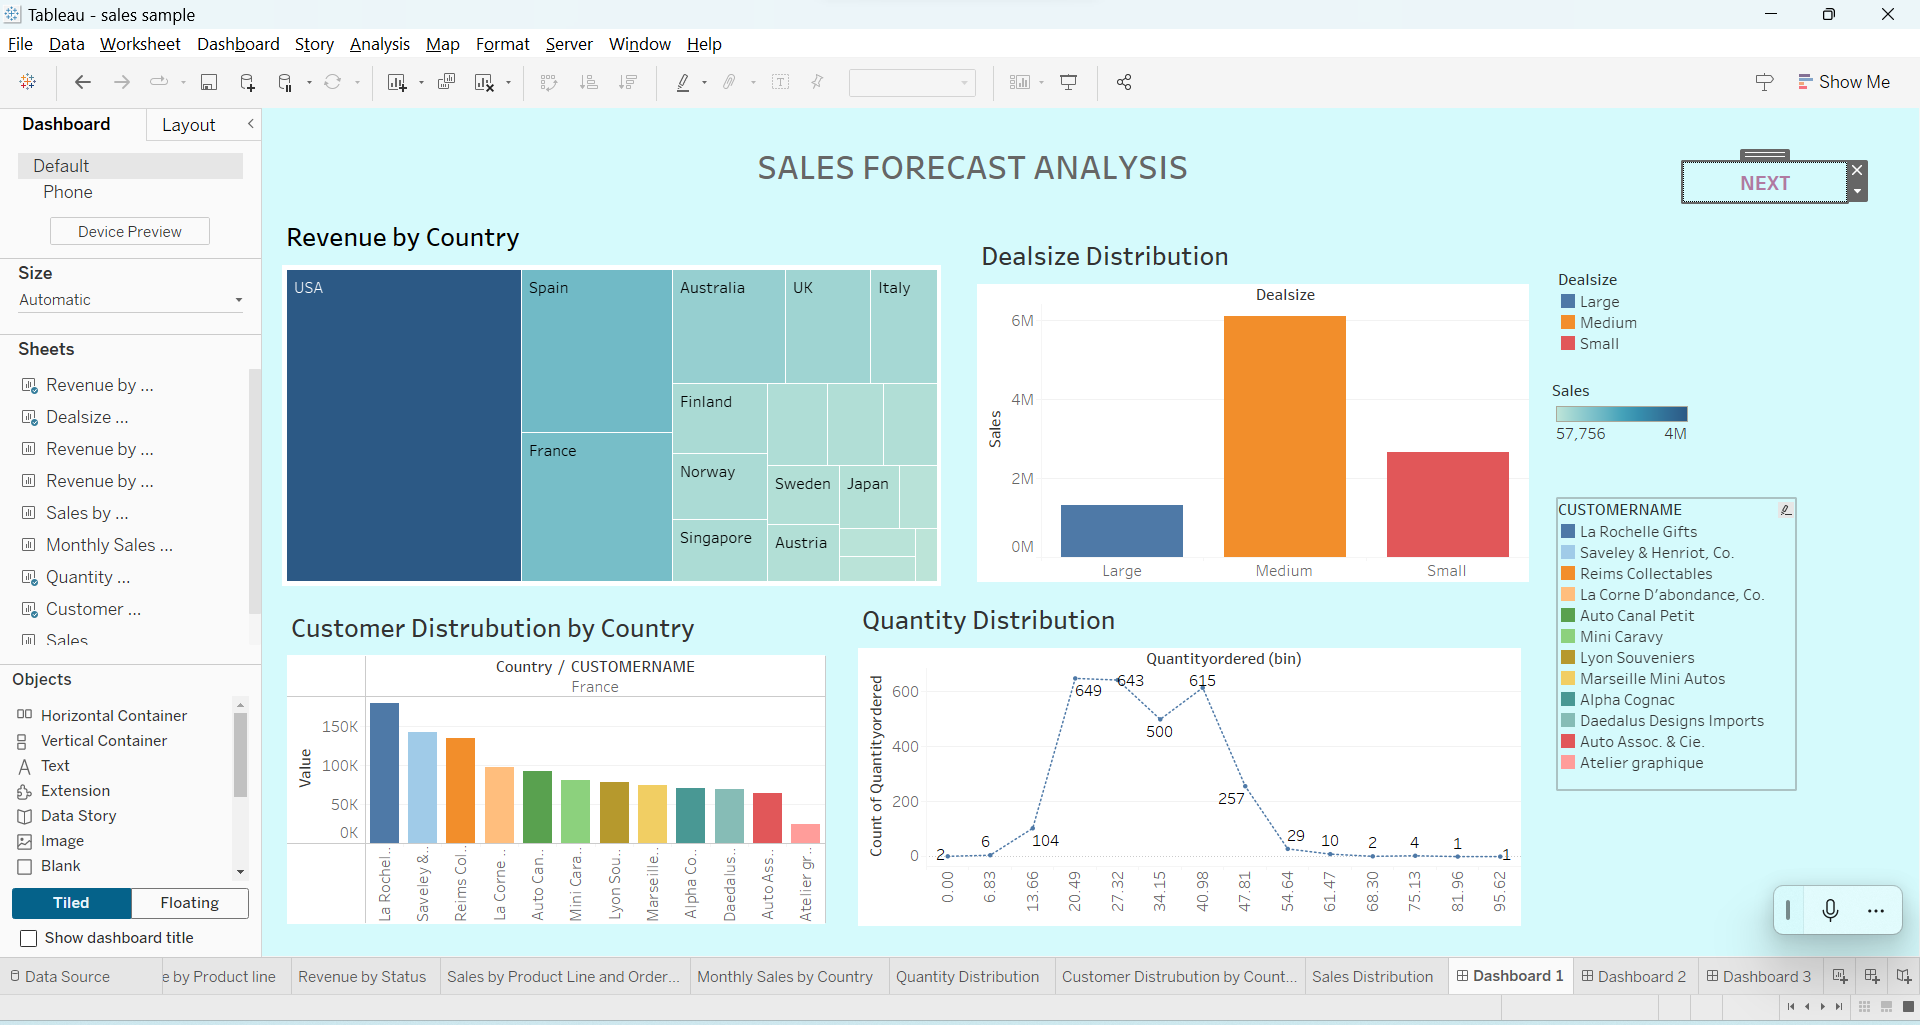

Layout of this report page (visuals, bound fields, positions):
{"tool":"tableau","page":{"name":"Dashboard 1","canvas":[1000,1000],"units":"permille","ordinal":0},"visuals":[{"type":"text","box":[296.9,27.1,283,80.2]},{"type":"dashboard-object","box":[857.6,63.7,99,47.2]},{"type":"worksheet","title":"Revenue by Country","mark":"Automatic","box":[12.1,126.2,397.7,437.5]},{"type":"worksheet","title":"Dealsize Distribution","mark":"Automatic","rows":["SALES"],"cols":["DEALSIZE"],"box":[431.5,148.6,333.1,410.4]},{"type":"legend","title":"Dealsize Distribution","param":"[federated.1p7c3ye0k3n9hr15a0q6i1e9qc64].[none:DEALSIZE:nk]","box":[782.1,189.9,84.5,100.2]},{"type":"legend","title":"Revenue by Country","param":"[federated.1p7c3ye0k3n9hr15a0q6i1e9qc64].[sum:SALES:qk]","box":[778.5,320.8,84.5,103.8]},{"type":"legend","title":"Customer Distrubution by Country","param":"[federated.1p7c3ye0k3n9hr15a0q6i1e9qc64].[none:CUSTOMERNAME:nk]","box":[782.1,461.1,143,342]},{"type":"worksheet","title":"Quantity Distribution","mark":"Line","rows":["QUANTITYORDERED"],"cols":["Quantityordered (bin)"],"box":[359.7,577.8,400.1,386.8]},{"type":"worksheet","title":"Customer Distrubution by Country","mark":"Automatic","cols":["COUNTRY","CUSTOMERNAME"],"box":[15.1,587.3,325.3,375]}]}

Visuals, with their boxes on the dashboard's canvas, which has no fixed pixel size, in thousandths of its width and height (x1, y1, x2, y2). These are canvas units, not pixel positions in the 1920x1025 screenshot, which may show the page scaled, cropped or inside an application window:
text: BBox(297, 27, 580, 107)
dashboard-object: BBox(858, 64, 957, 111)
"Revenue by Country" worksheet: BBox(12, 126, 410, 564)
"Dealsize Distribution" worksheet: BBox(432, 149, 765, 559)
"Dealsize Distribution" legend: BBox(782, 190, 867, 290)
"Revenue by Country" legend: BBox(778, 321, 863, 425)
"Customer Distrubution by Country" legend: BBox(782, 461, 925, 803)
"Quantity Distribution" worksheet (Line marks): BBox(360, 578, 760, 965)
"Customer Distrubution by Country" worksheet: BBox(15, 587, 340, 962)
